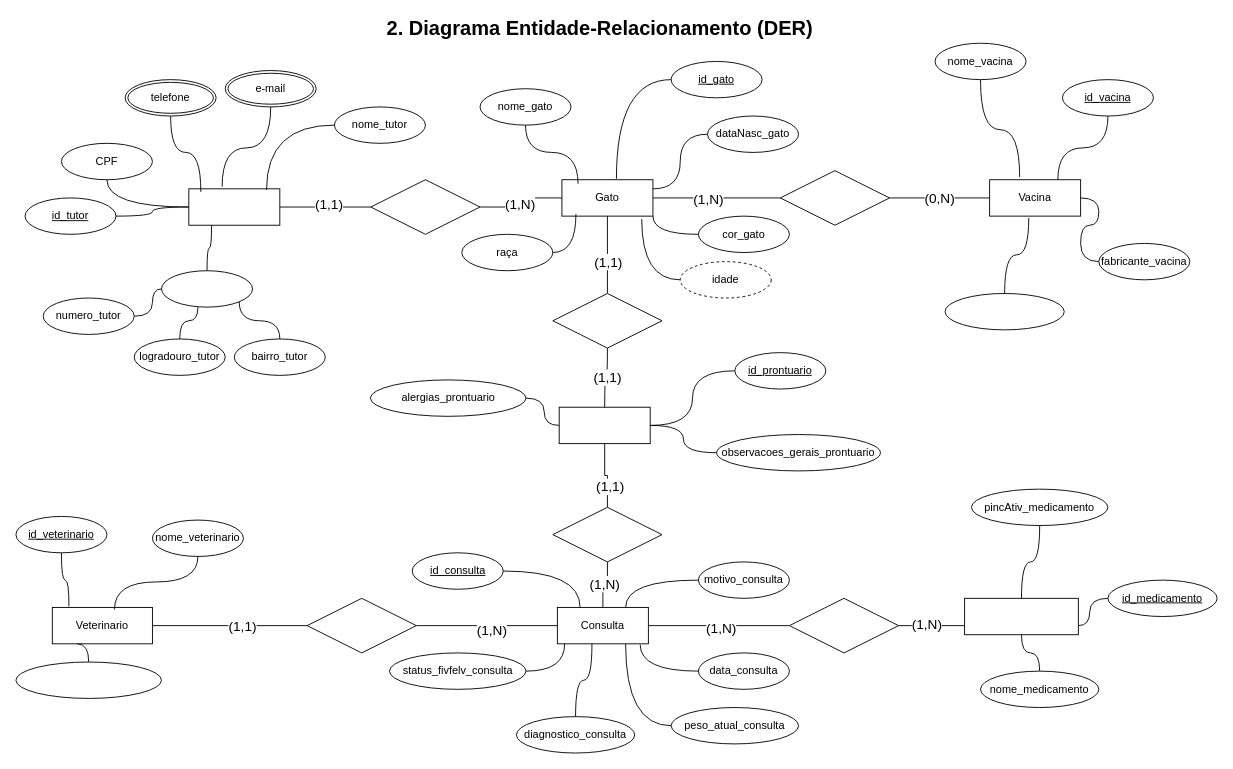
This 1233x769 diagram has some shape labels left out. Each missing label, with the box of its shape:
contem: (552, 506, 662, 562)
endereco_tutor: (161, 270, 253, 307)
especialidade_veterinario: (15, 661, 162, 698)
faz: (306, 597, 416, 653)
Medicamento: (964, 597, 1078, 635)
possui: (370, 179, 480, 234)
prescrito: (789, 597, 899, 653)
Prontuario: (558, 406, 650, 444)
reforco_dias_vacina: (944, 293, 1064, 330)
tem: (552, 293, 662, 348)
toma: (779, 170, 890, 225)
Tutor: (188, 188, 280, 225)
